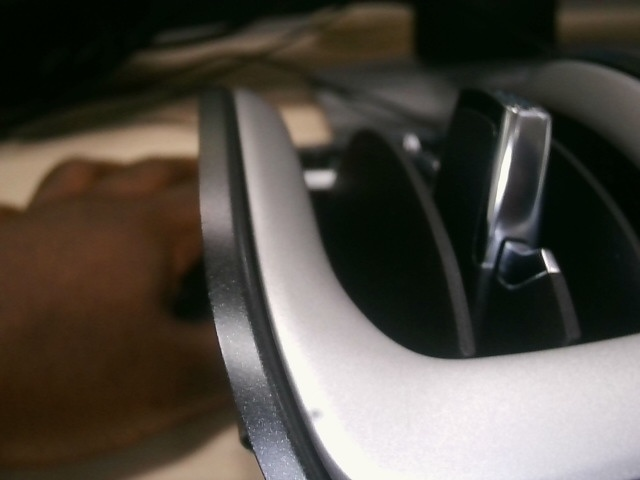NG: (201, 266, 241, 325), (396, 367, 427, 433)
